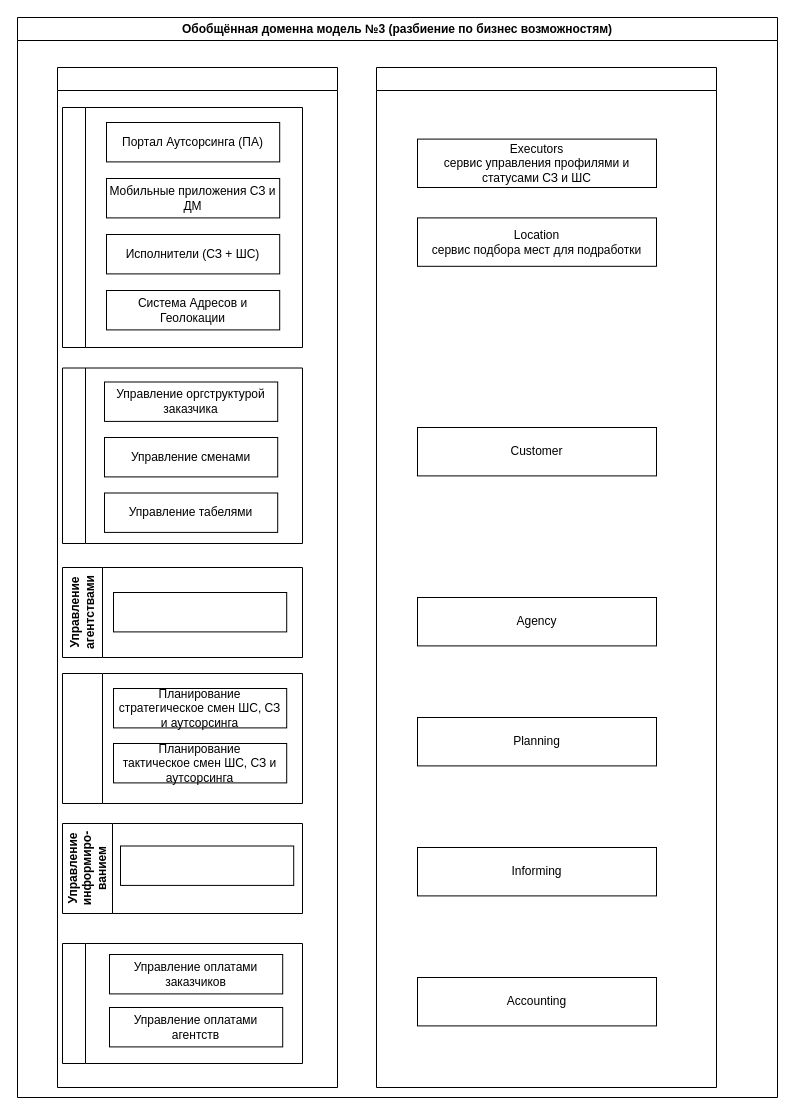
Image size: 795x1115. Some labels were removed from this diagram. The shapes that lost their labels are listed below. From the top down, each one's box as (x1, y1, x2, y2) in pixels, then its label:
(62, 106, 302, 348): Управление СЗ и ШС
(62, 367, 302, 544): Управление заказчиками
(56, 66, 338, 1088): Бизнес возиожности
(376, 66, 716, 1088): Сервисы
(112, 592, 287, 632): Управление оргструктурой агентств
(62, 672, 302, 804): Система планирования
(120, 845, 294, 885): Система Информирования (СИ) push, sms, email, bot
(62, 942, 302, 1064): Бухгалтерия
